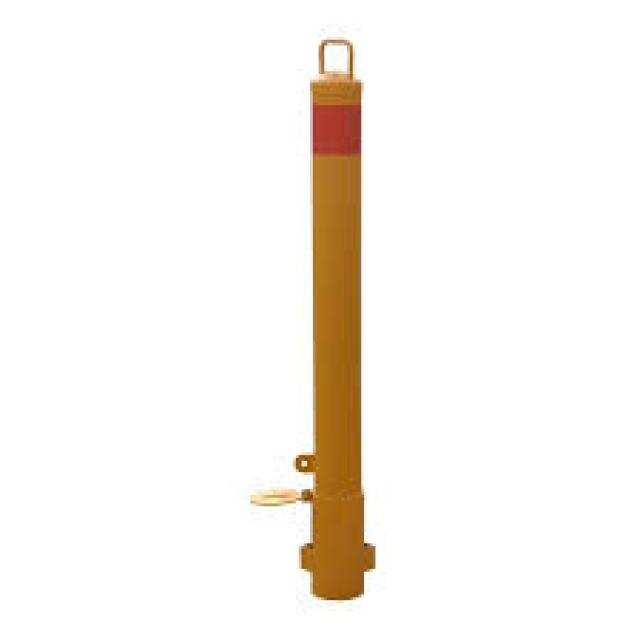bollard: (246, 22, 386, 608)
